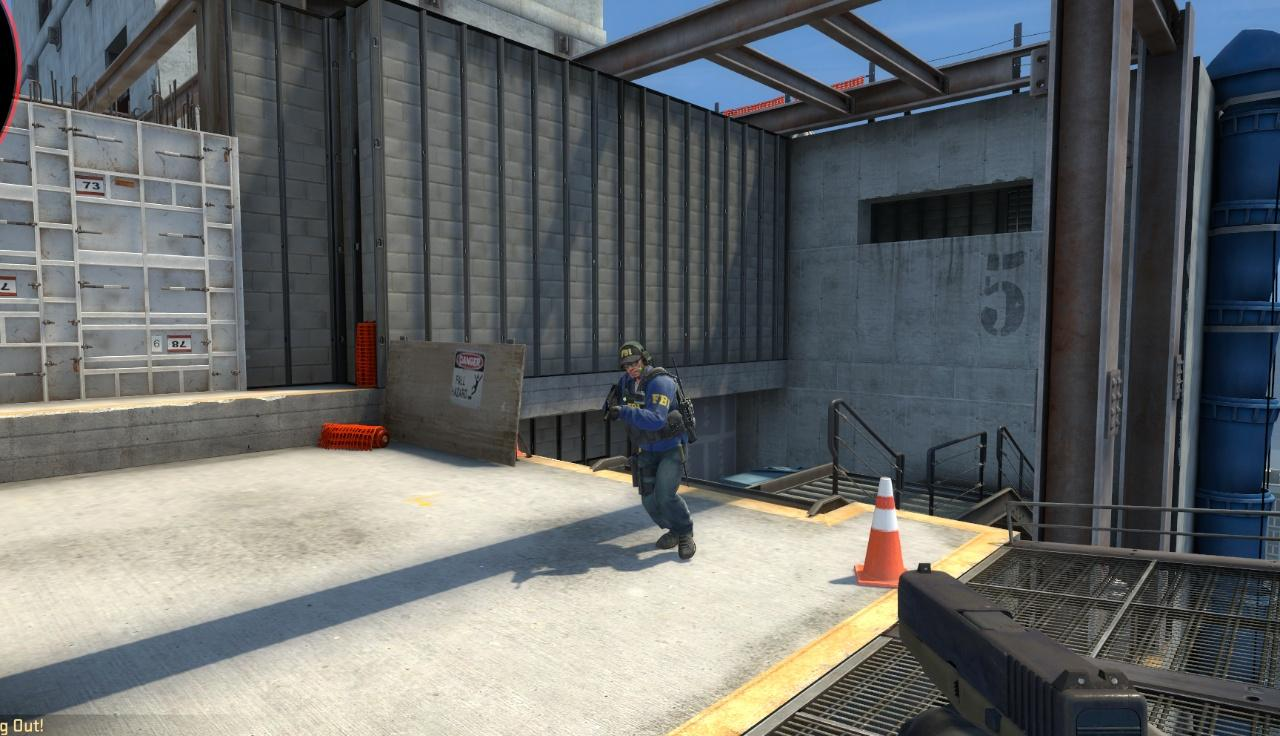ct: (612, 343, 690, 550)
cthead: (619, 344, 649, 379)
pistol: (897, 561, 1150, 736)
